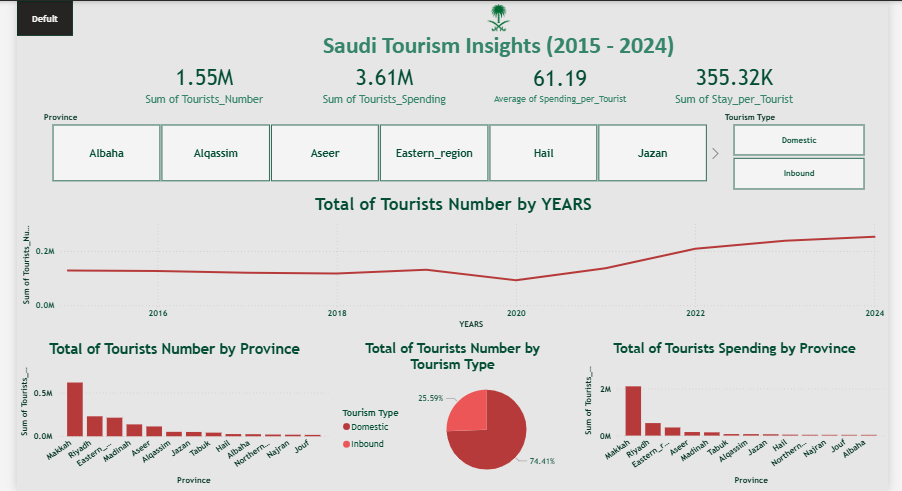

This screenshot's page, from the dashboard's own definition file:
{"tool":"powerbi","page":{"name":"Page 1","canvas":[1280,720],"ordinal":0},"visuals":[{"type":"lineChart","title":"Total of Tourists Number by YEARS","fields":{"Category":["Dim_Year.YEARS"],"Y":["Sum(cleaned_tourism.Tourists_Number)"]},"box":[2.9,283.6,1276.9,202.8],"z":0},{"type":"columnChart","title":"Total of Tourists Number by Province","fields":{"Y":["Sum(cleaned_tourism.Tourists_Number)"],"Category":["Dim_Province.Province"]},"box":[0,498.1,462.9,217.5],"z":1000},{"type":"pieChart","title":"Total of Tourists Number by Tourism Type","fields":{"Category":["cleaned_tourism.Tourism_Type"],"Y":["Sum(cleaned_tourism.Tourists_Number)"]},"box":[473.1,498.1,333.6,217.5],"z":2000},{"type":"card","fields":{"Values":["Sum(cleaned_tourism.Tourists_Number)"]},"box":[168.8,82.2,212.1,76.2],"z":3000},{"type":"card","fields":{"Values":["Sum(cleaned_tourism.Tourists_Spending)"]},"box":[433.2,82.2,212.1,76.2],"z":4000},{"type":"card","fields":{"Values":["Avg(cleaned_tourism.Spending_per_Tourist)"]},"box":[691.6,82.2,212.1,76.2],"z":5000},{"type":"card","fields":{"Values":["Sum(cleaned_tourism.Stay_per_Tourist)"]},"box":[947.1,82.2,212.1,76.2],"z":6000},{"type":"columnChart","title":"Total of Tourists Spending by Province","fields":{"Category":["cleaned_tourism.Province"],"Y":["Sum(cleaned_tourism.Tourists_Spending)"]},"box":[828.9,498.1,451.1,217.5],"z":7000},{"type":"textbox","title":"Saudi Tourism Insights (2015 - 2024)","box":[358.5,44.1,698,44.1],"z":8000},{"type":"slicer","fields":{"Values":["cleaned_tourism.Tourism_Type"]},"box":[1027.1,158.7,242.4,124.9],"z":9000},{"type":"slicer","fields":{"Values":["cleaned_tourism.Province"]},"box":[26.4,158.7,1010.9,113.1],"z":10000},{"type":"bookmarkNavigator","box":[0,0,82,51.3],"z":11000},{"type":"image","box":[606.9,4.4,202.8,39.7],"z":11004}]}

Visuals, with their boxes on the page's 1280x720 design canvas (x1, y1, x2, y2). These are canvas units, not pixel positions in the 902x491 screenshot, which may show the page scaled, cropped or inside an application window:
"Total of Tourists Number by YEARS" lineChart: bbox=(3, 284, 1280, 486)
"Total of Tourists Number by Province" columnChart: bbox=(0, 498, 463, 716)
"Total of Tourists Number by Tourism Type" pieChart: bbox=(473, 498, 807, 716)
card - Sum(cleaned_tourism.Tourists_Number): bbox=(169, 82, 381, 158)
card - Sum(cleaned_tourism.Tourists_Spending): bbox=(433, 82, 645, 158)
card - Avg(cleaned_tourism.Spending_per_Tourist): bbox=(692, 82, 904, 158)
card - Sum(cleaned_tourism.Stay_per_Tourist): bbox=(947, 82, 1159, 158)
"Total of Tourists Spending by Province" columnChart: bbox=(829, 498, 1280, 716)
"Saudi Tourism Insights (2015 - 2024)" textbox: bbox=(358, 44, 1056, 88)
slicer - cleaned_tourism.Tourism_Type: bbox=(1027, 159, 1270, 284)
slicer - cleaned_tourism.Province: bbox=(26, 159, 1037, 272)
bookmarkNavigator: bbox=(0, 0, 82, 51)
image: bbox=(607, 4, 810, 44)
